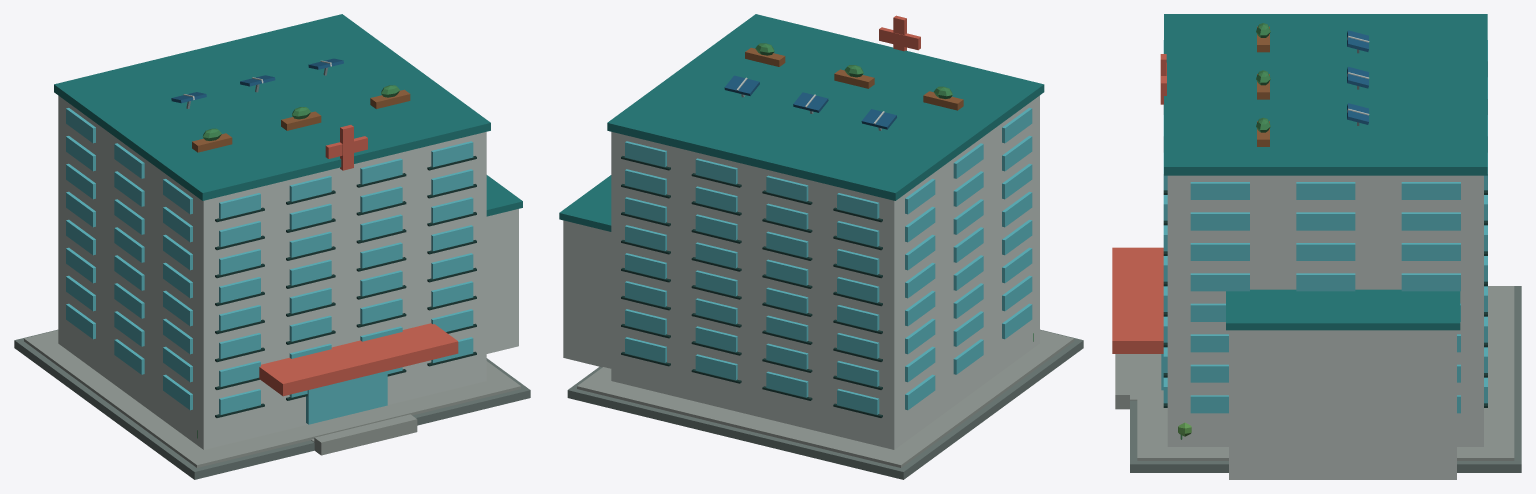
File: clinic_lv4.glb
3 renders of one model, left to right at view 1: azimuth 30°, elevation 25°; view 2: azimuth 150°, elevation 25°; view 3: azimuth 270°, elevation 25°, orthographic. The views are drawn at different scales.
Parts seen in each view (by area): view 1: rough, glossy, metallic; view 2: rough, glossy, metallic; view 3: rough, glossy, metallic.
Boxes of the visible parts, <box> form: rough: <box>14,14,530,479</box>; glossy: <box>66,108,473,424</box>; metallic: <box>171,58,343,108</box>; rough: <box>559,14,1083,479</box>; glossy: <box>625,107,1032,414</box>; metallic: <box>724,75,896,130</box>; rough: <box>1112,14,1521,479</box>; glossy: <box>1161,40,1487,413</box>; metallic: <box>1347,30,1368,125</box>.
Bounding box in the file's own units: 10.87 × 8.38 × 9.51.
